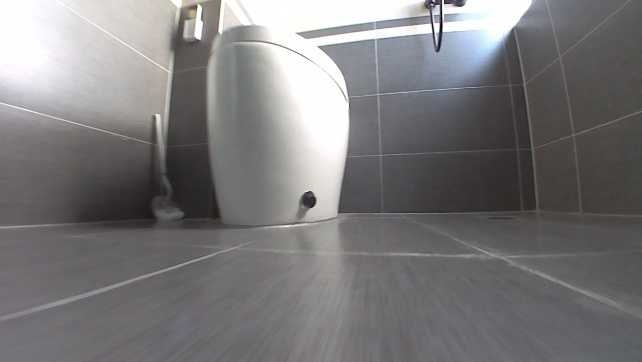toilet: (204, 25, 354, 226)
